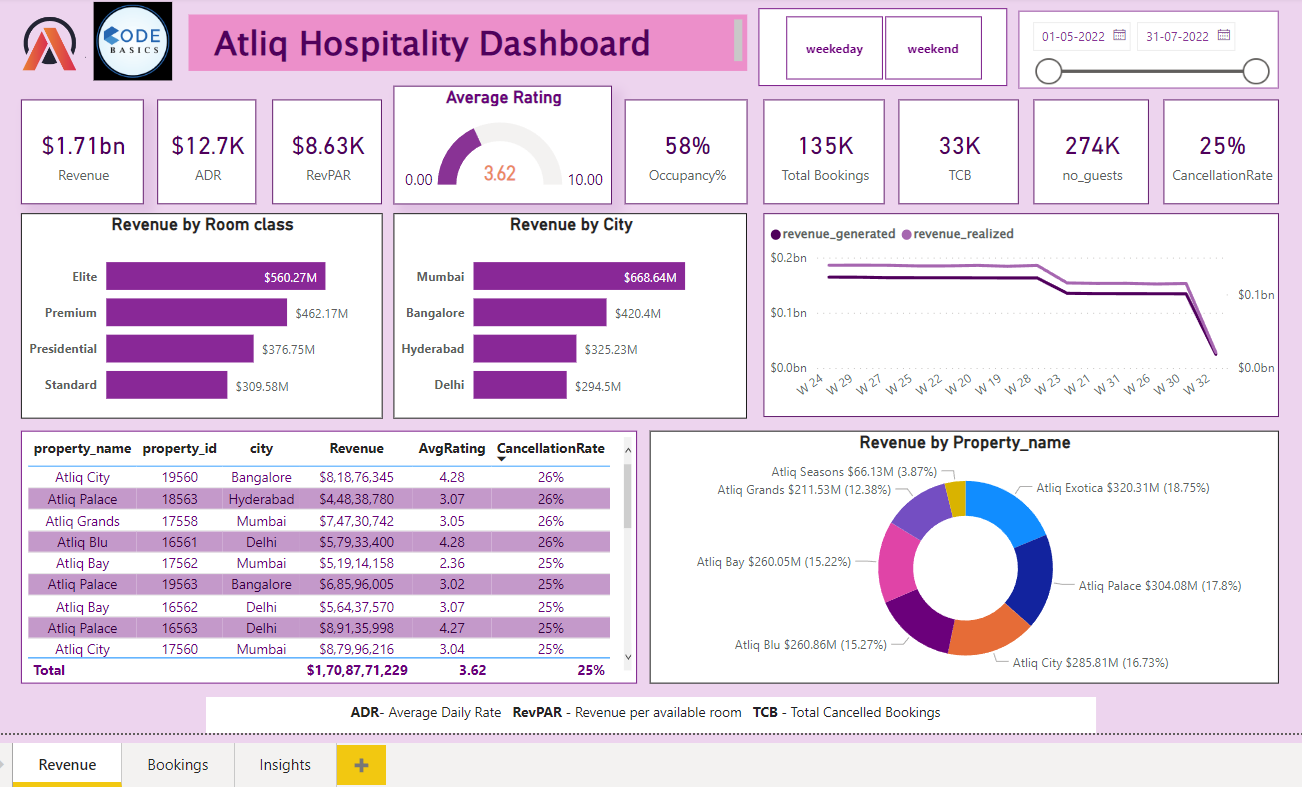

The dashboard page shown, as its layout file describes it:
{"tool":"powerbi","page":{"name":"Revenue","canvas":[1280,720],"ordinal":0},"visuals":[{"type":"image","box":[79.5,0,108.8,86.8],"z":0},{"type":"card","fields":{"Values":["fact_bookings.Revenue"]},"box":[24.4,100.2,119.8,102.7],"z":1000},{"type":"gauge","title":"Average Rating","fields":{"Y":["fact_bookings.AvgRating"]},"box":[388.7,86.8,213.9,116.1],"z":2000},{"type":"image","box":[0,2.4,99,86.8],"z":3000},{"type":"slicer","fields":{"Values":["dim_date.date"]},"box":[999.9,13.4,254.3,75.8],"z":4000},{"type":"card","fields":{"Values":["fact_bookings.ADR"]},"box":[157.7,100.2,96.6,102.7],"z":5000},{"type":"card","fields":{"Values":["fact_bookings.RevPAR"]},"box":[270.2,100.2,107.6,102.7],"z":6000},{"type":"card","fields":{"Values":["fact_bookings.TotalBookings"]},"box":[750.6,100.2,118.6,102.7],"z":7000},{"type":"card","fields":{"Values":["fact_bookings.Cancellation Rate"]},"box":[1141.7,100.2,112.5,102.7],"z":8000},{"type":"card","fields":{"Values":["fact_bookings.TtlCancBookings"]},"box":[882.6,100.2,117.4,102.7],"z":9000},{"type":"clusteredBarChart","title":"Revenue by Room class","fields":{"Y":["fact_bookings.Revenue"],"Category":["dim_rooms.room_class"]},"box":[24.4,211.5,353.3,200.5],"z":10000},{"type":"clusteredBarChart","title":"Revenue by City","fields":{"Y":["fact_bookings.Revenue"],"Category":["dim_hotels.city"]},"box":[388.7,211.5,345.9,200.5],"z":11000},{"type":"donutChart","title":"Revenue by Property_name","fields":{"Category":["dim_hotels.property_name"],"Y":["fact_bookings.Revenue"]},"box":[639.3,424.2,614.9,246.9],"z":12000},{"type":"card","fields":{"Values":["Sum(fact_bookings.no_guests)"]},"box":[1014.6,100.2,112.5,102.7],"z":13000},{"type":"textbox","box":[188.3,17.1,546.4,55],"z":14000},{"type":"textbox","box":[205.4,684.6,870.4,35.4],"z":15000},{"type":"slicer","fields":{"Values":["dim_date.day_type"]},"box":[745.7,11,243.3,75.8],"z":16000},{"type":"tableEx","fields":{"Values":["dim_hotels.property_name","dim_hotels.property_id","dim_hotels.city","fact_bookings.Revenue","fact_bookings.AvgRating","fact_bookings.CancellationRate"]},"box":[24.4,424.2,602.6,246.9],"z":17000},{"type":"lineChart","title":"Revenue generated and Revenue realized","fields":{"Y":["Sum(fact_bookings.revenue_generated)"],"Y2":["Sum(fact_bookings.revenue_realized)"],"Category":["dim_date.week no"]},"box":[750.6,211.5,503.6,199.3],"z":18000},{"type":"card","fields":{"Values":["fact_aggregated_bookings.Occupancy%"]},"box":[614.9,100.2,119.8,102.7],"z":19000}]}

Visuals, with their boxes on the page's 1280x720 design canvas (x1, y1, x2, y2). These are canvas units, not pixel positions in the 1302x787 screenshot, which may show the page scaled, cropped or inside an application window:
image: {"left": 80, "top": 0, "right": 188, "bottom": 87}
card - fact_bookings.Revenue: {"left": 24, "top": 100, "right": 144, "bottom": 203}
"Average Rating" gauge: {"left": 389, "top": 87, "right": 603, "bottom": 203}
image: {"left": 0, "top": 2, "right": 99, "bottom": 89}
slicer - dim_date.date: {"left": 1000, "top": 13, "right": 1254, "bottom": 89}
card - fact_bookings.ADR: {"left": 158, "top": 100, "right": 254, "bottom": 203}
card - fact_bookings.RevPAR: {"left": 270, "top": 100, "right": 378, "bottom": 203}
card - fact_bookings.TotalBookings: {"left": 751, "top": 100, "right": 869, "bottom": 203}
card - fact_bookings.Cancellation Rate: {"left": 1142, "top": 100, "right": 1254, "bottom": 203}
card - fact_bookings.TtlCancBookings: {"left": 883, "top": 100, "right": 1000, "bottom": 203}
"Revenue by Room class" clusteredBarChart: {"left": 24, "top": 212, "right": 378, "bottom": 412}
"Revenue by City" clusteredBarChart: {"left": 389, "top": 212, "right": 735, "bottom": 412}
"Revenue by Property_name" donutChart: {"left": 639, "top": 424, "right": 1254, "bottom": 671}
card - Sum(fact_bookings.no_guests): {"left": 1015, "top": 100, "right": 1127, "bottom": 203}
textbox: {"left": 188, "top": 17, "right": 735, "bottom": 72}
textbox: {"left": 205, "top": 685, "right": 1076, "bottom": 720}
slicer - dim_date.day_type: {"left": 746, "top": 11, "right": 989, "bottom": 87}
tableEx - dim_hotels.property_name x dim_hotels.property_id: {"left": 24, "top": 424, "right": 627, "bottom": 671}
"Revenue generated and Revenue realized" lineChart: {"left": 751, "top": 212, "right": 1254, "bottom": 411}
card - fact_aggregated_bookings.Occupancy%: {"left": 615, "top": 100, "right": 735, "bottom": 203}
